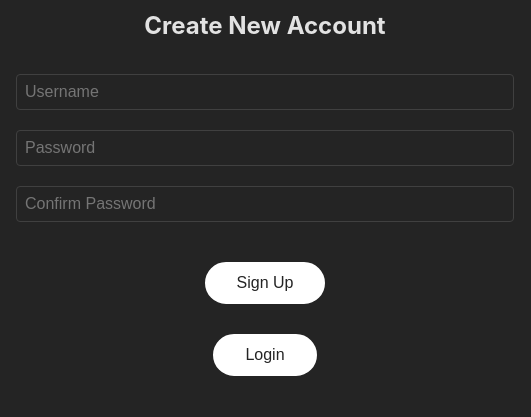
Test case: sign up Component › displays password mismatch validation errors
Type "user" into the field with placeholder "Username" at {"x": 265, "y": 92}, box [16, 74, 514, 110]
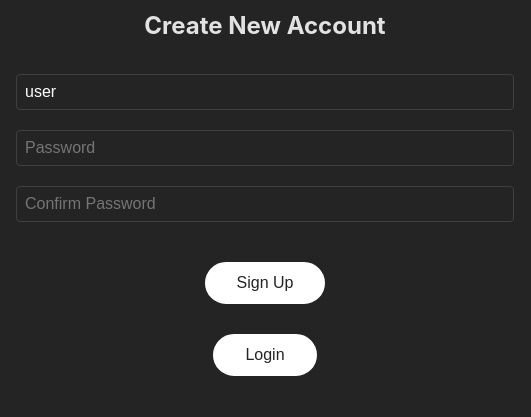
Type "password123" into the password field with placeholder "Password" at {"x": 265, "y": 148}, box [16, 130, 514, 166]
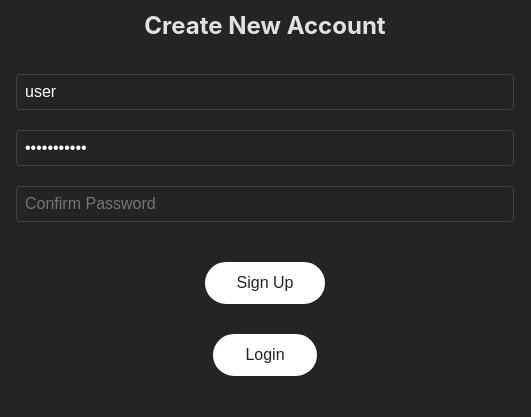
Type "password1234" into the password field with placeholder "Confirm Password" at {"x": 265, "y": 204}, box [16, 186, 514, 222]
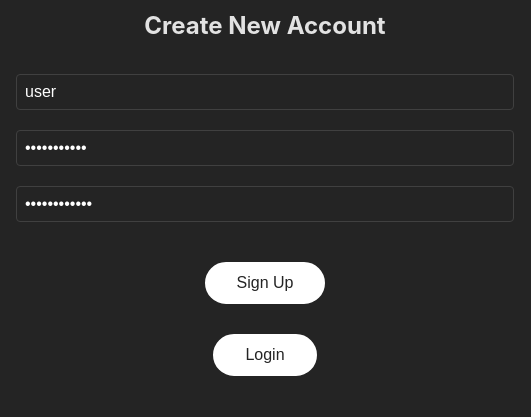
Click the button "Sign Up" at {"x": 265, "y": 283}, box [204, 262, 325, 304]
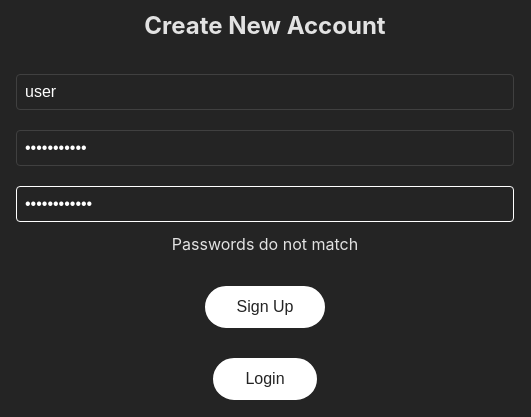
Expected: the text "Passwords do not match" is shown, [172, 234, 358, 254]
